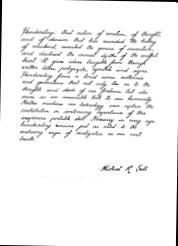text: (18, 26, 162, 41), (20, 113, 156, 127), (20, 49, 159, 62), (19, 106, 147, 120), (19, 42, 154, 55), (19, 92, 153, 105), (21, 77, 151, 90), (19, 35, 158, 47), (20, 99, 155, 111), (20, 63, 150, 75), (20, 85, 148, 97), (19, 120, 139, 132), (20, 56, 146, 67), (18, 128, 144, 139), (19, 72, 144, 82), (97, 162, 150, 174), (18, 134, 36, 142)
